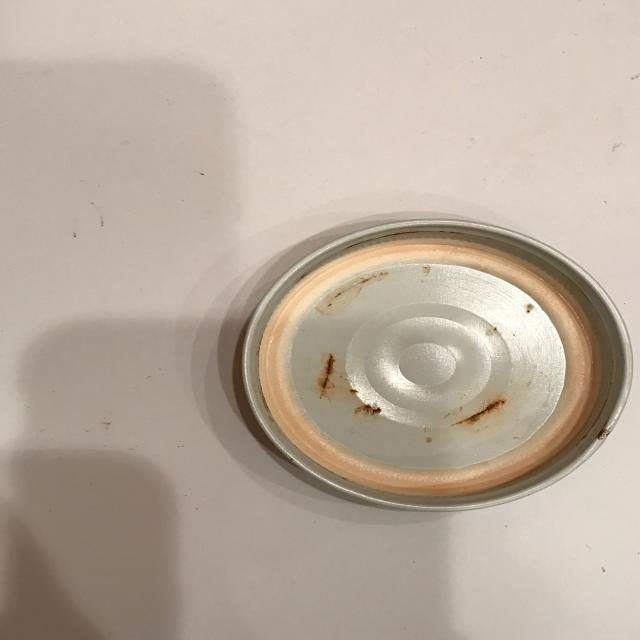Metal: (214, 201, 640, 536)
